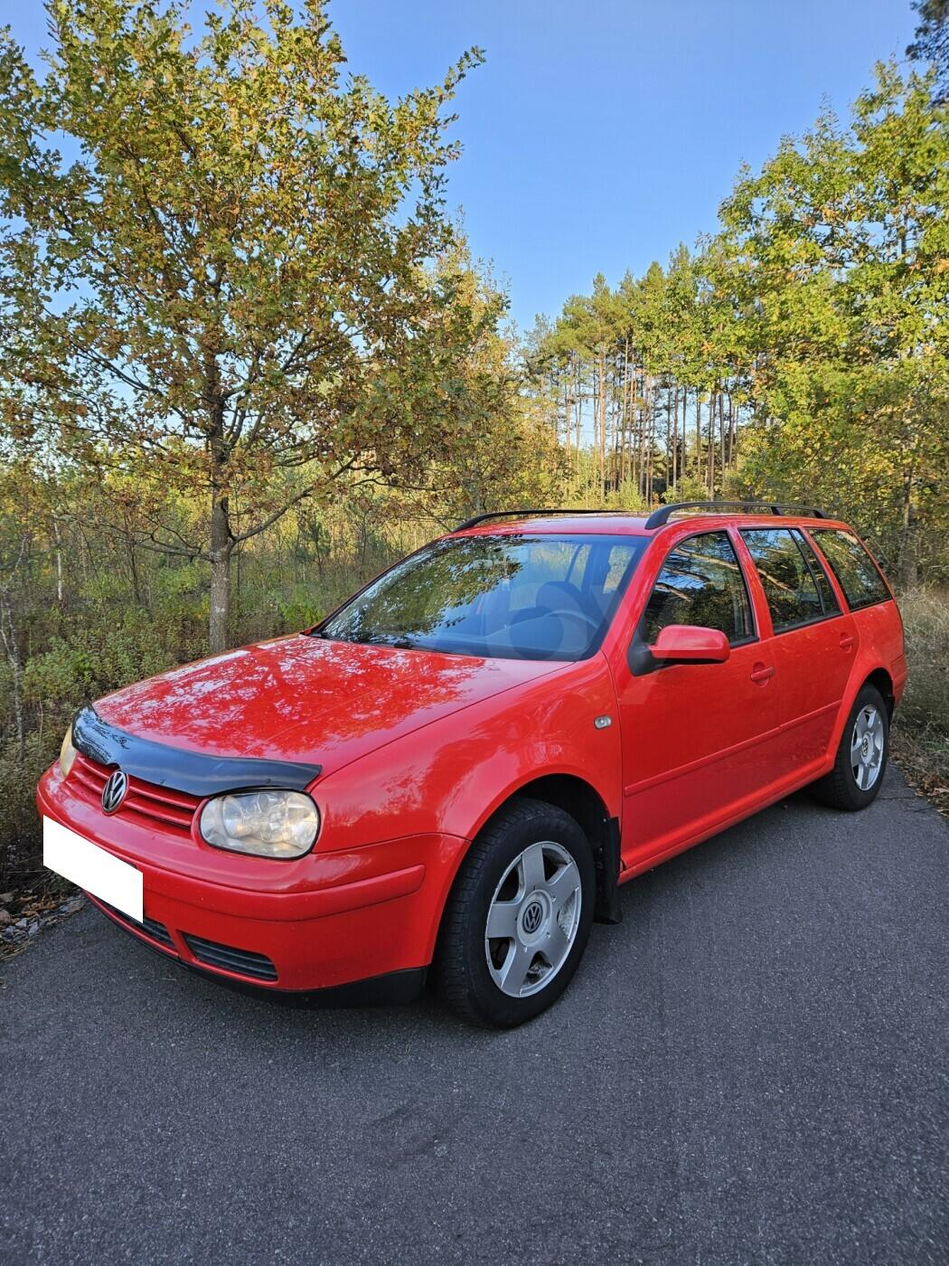Golf_1997-2006: (32, 496, 914, 1020)
